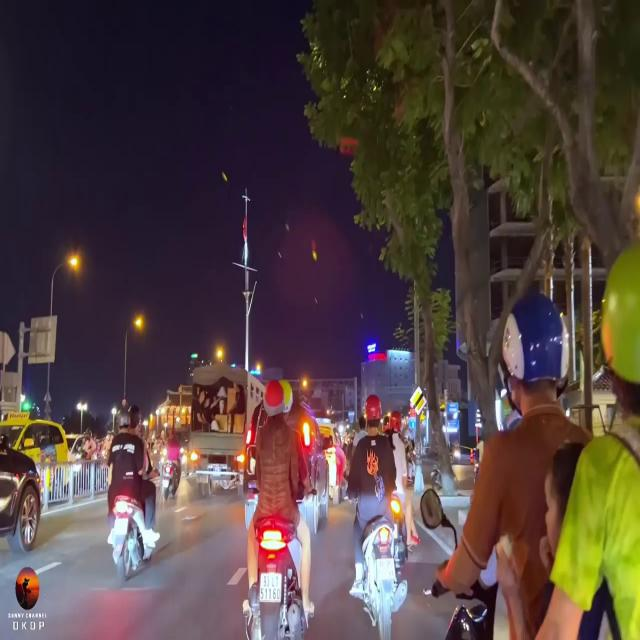bien_trang: (260, 571, 282, 603)
